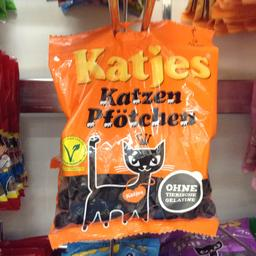candy: (48, 26, 215, 244)
